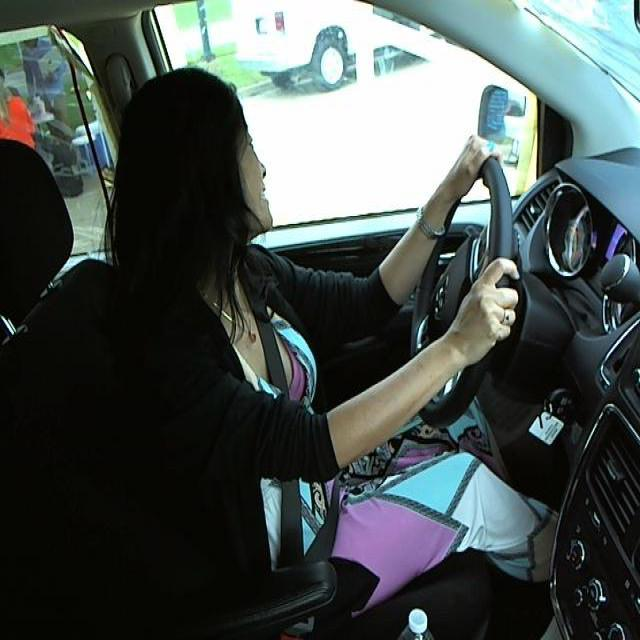seatbelt: (252, 312, 348, 571)
